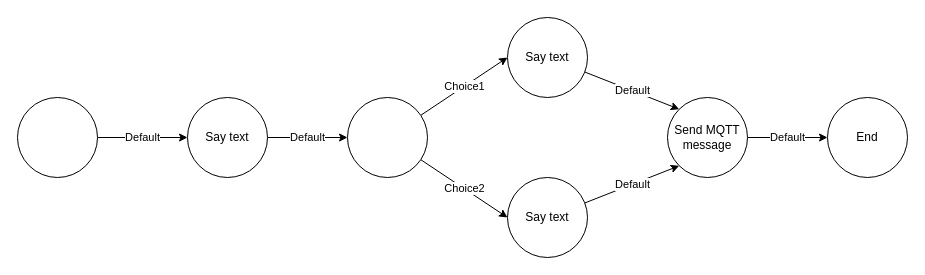
Image size: 925x275. Some labels were removed from this diagram. Each missing label, with the centre of its shape:
Choice: pixel 387 137
Start: pixel 57 137
